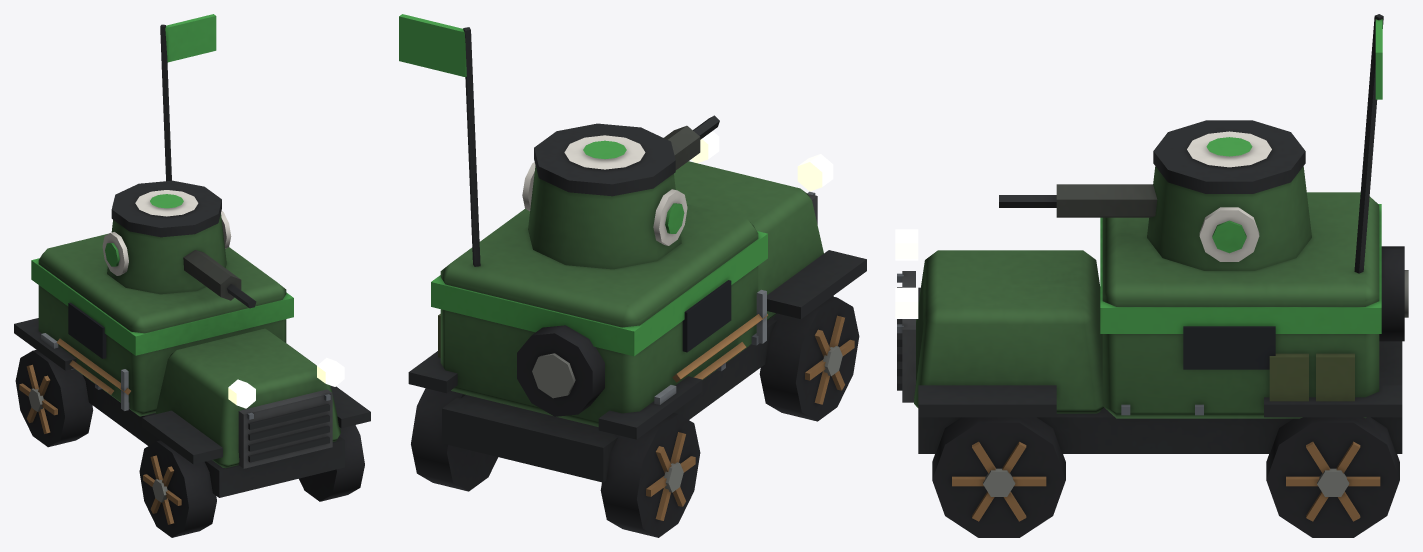
The model's file is assault_dl5_green.glb.
The picture shows the model from 3 angles, left to right: view 1: azimuth 30°, elevation 25°; view 2: azimuth 150°, elevation 25°; view 3: azimuth 270°, elevation 25°; orthographic projection. The views are drawn at different scales.
Parts seen in each view (by area): view 1: assault_dl5_green; view 2: assault_dl5_green; view 3: assault_dl5_green.
Part boxes in pixels (x1=…): assault_dl5_green: x1=14, y1=14, x2=370, y2=537; assault_dl5_green: x1=399, y1=14, x2=866, y2=537; assault_dl5_green: x1=895, y1=14, x2=1408, y2=537.
Size of the model in its own units: 0.267 by 0.4774 by 0.4455.
Materials: 2 (1 with a texture image).
